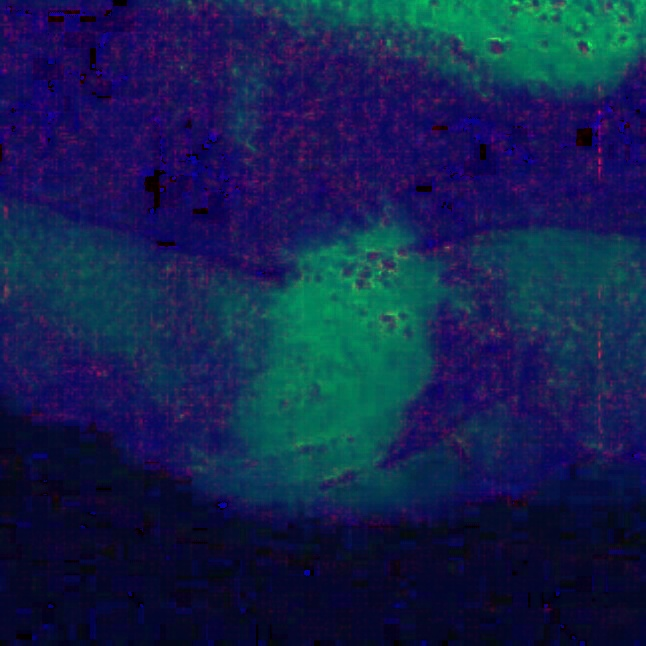rip_current: (179, 89, 489, 491)
